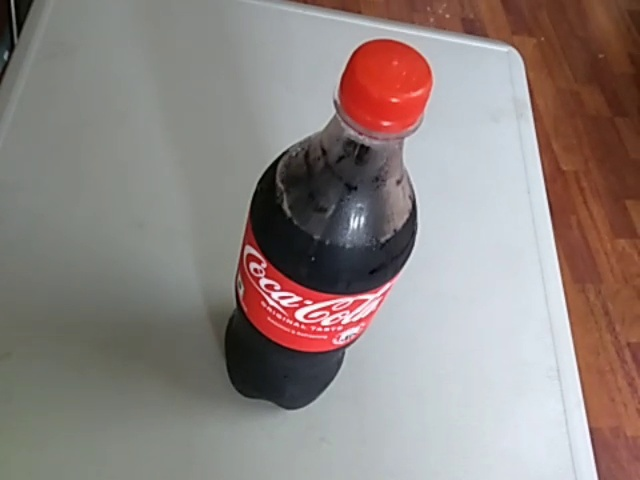Cocacola: (213, 34, 440, 423)
